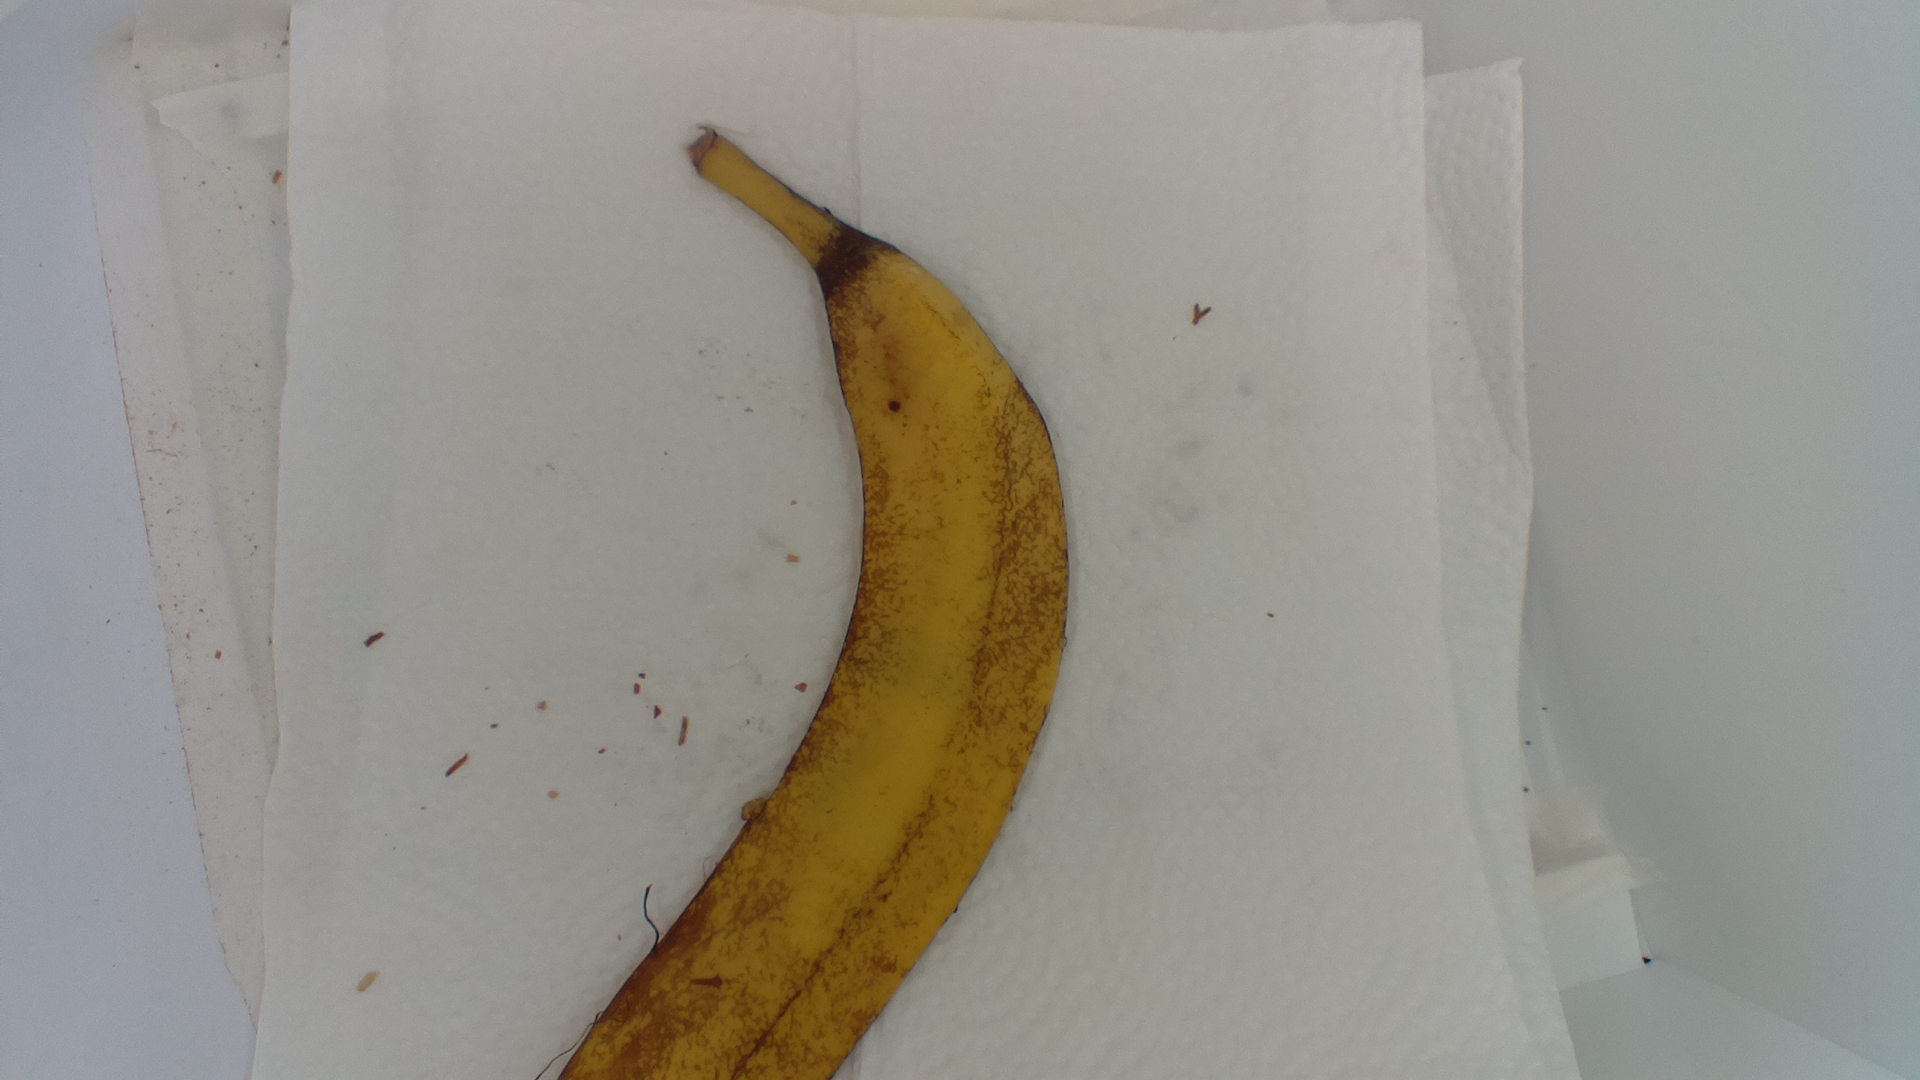fruit: (525, 102, 1088, 1080)
